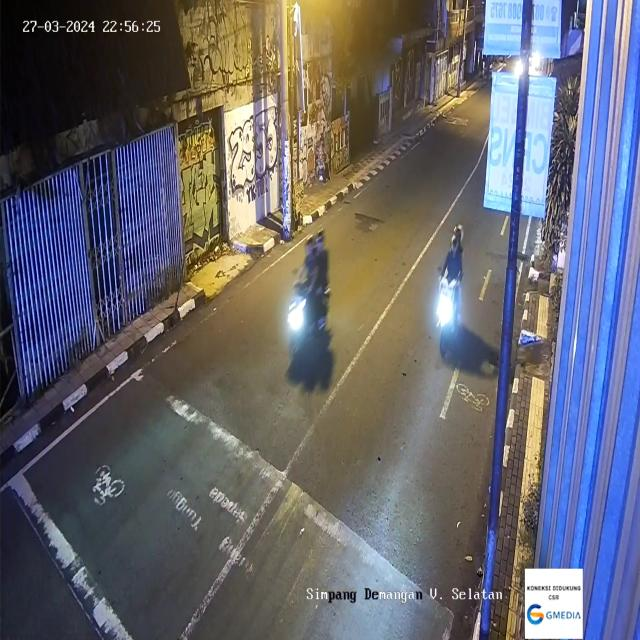motorcycle: (287, 214, 333, 334), (438, 223, 470, 346)
